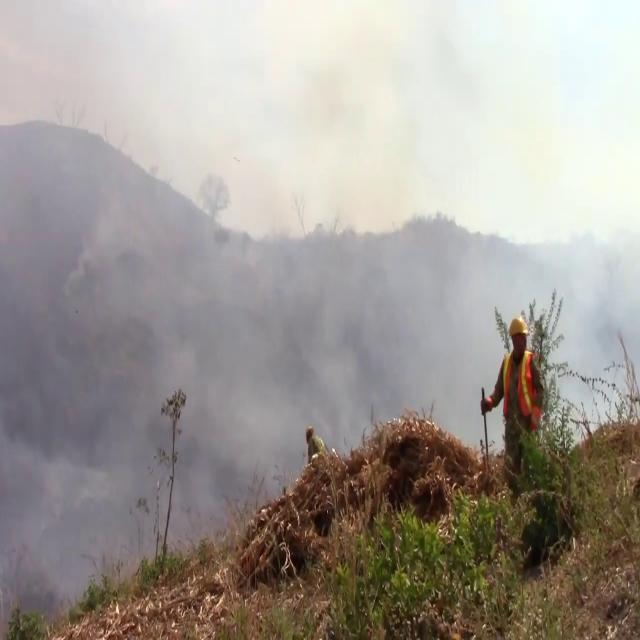Smoke: (0, 19, 483, 576), (546, 132, 640, 426)
